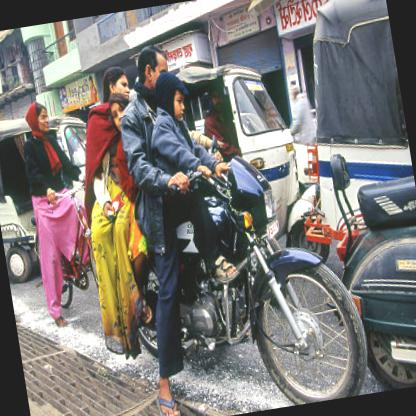motorcycle: (58, 21, 375, 415)
